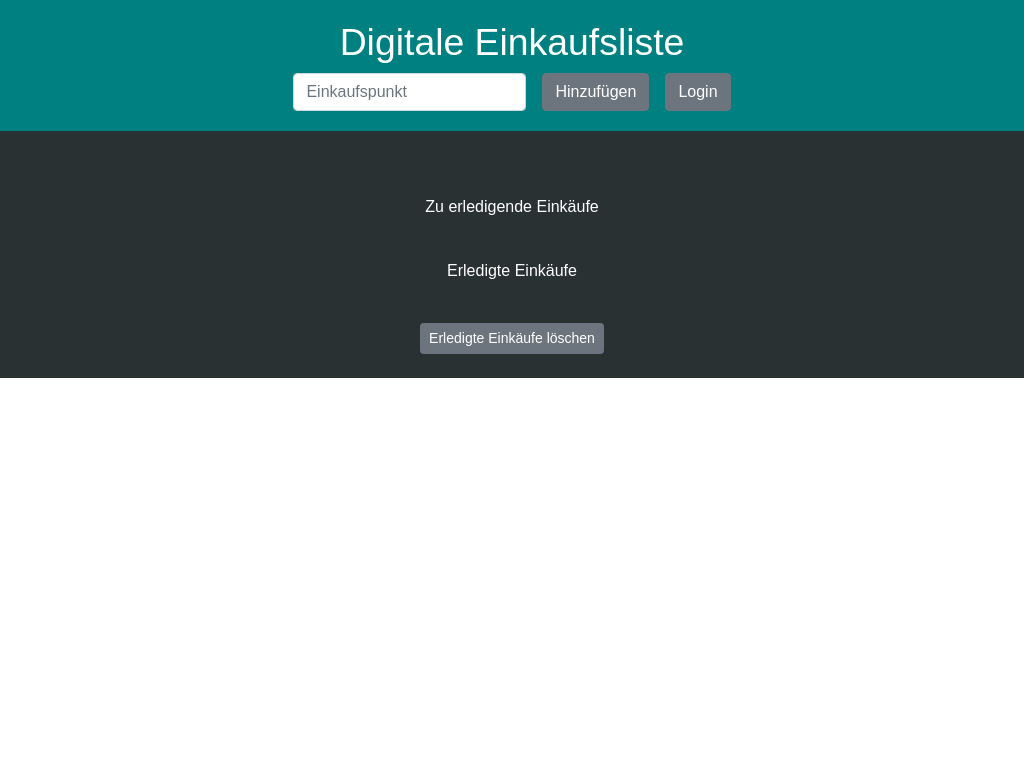
Test: deleate › Test Prozess: eingabe, erledigen, löschen
In the field: (410, 92) [293, 73, 526, 111], type "apfel"
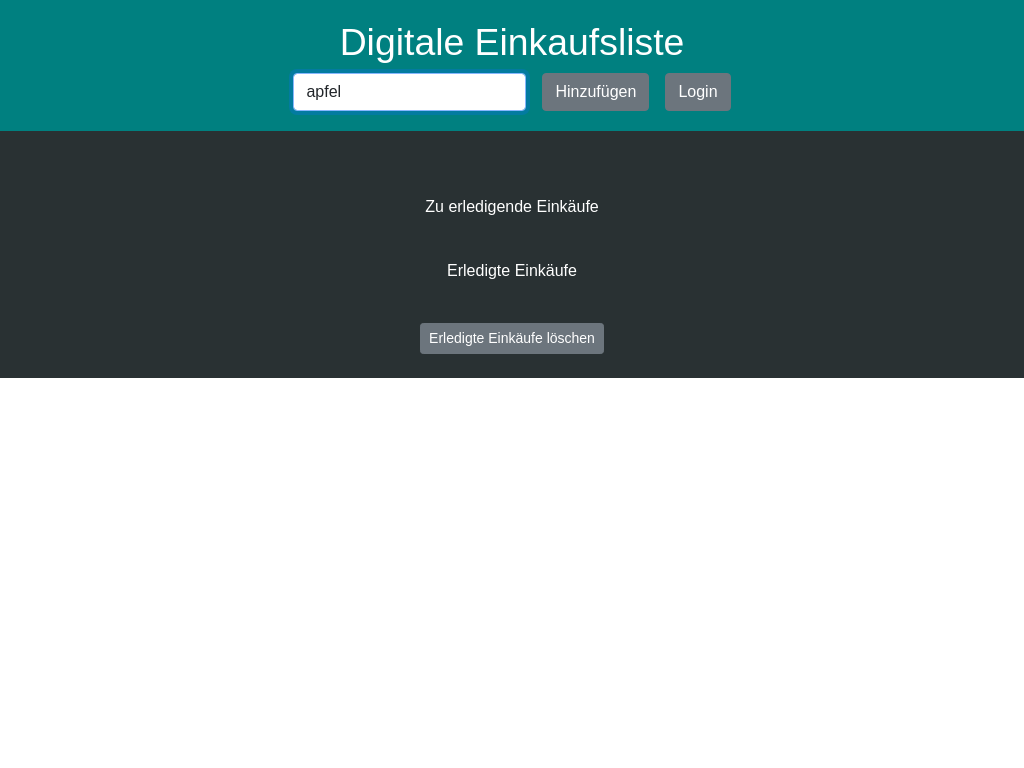
Click the button "Hinzufügen": (596, 92) [542, 73, 649, 111]
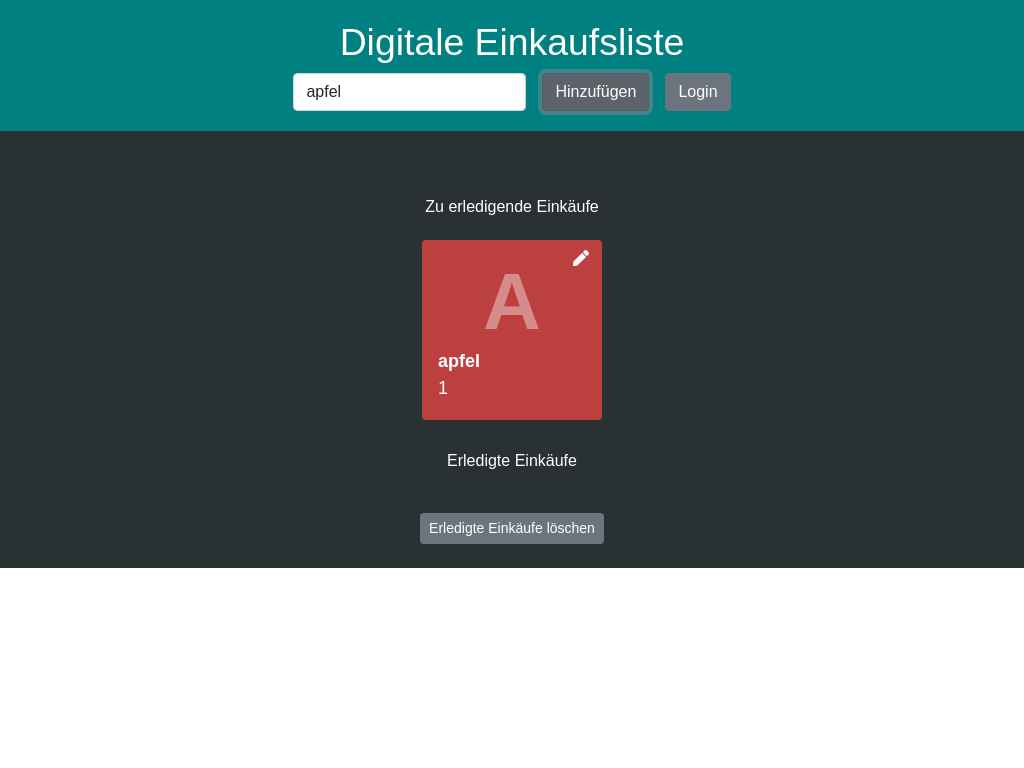
Click the element with class "card-body": (490, 328) [438, 257, 541, 398]
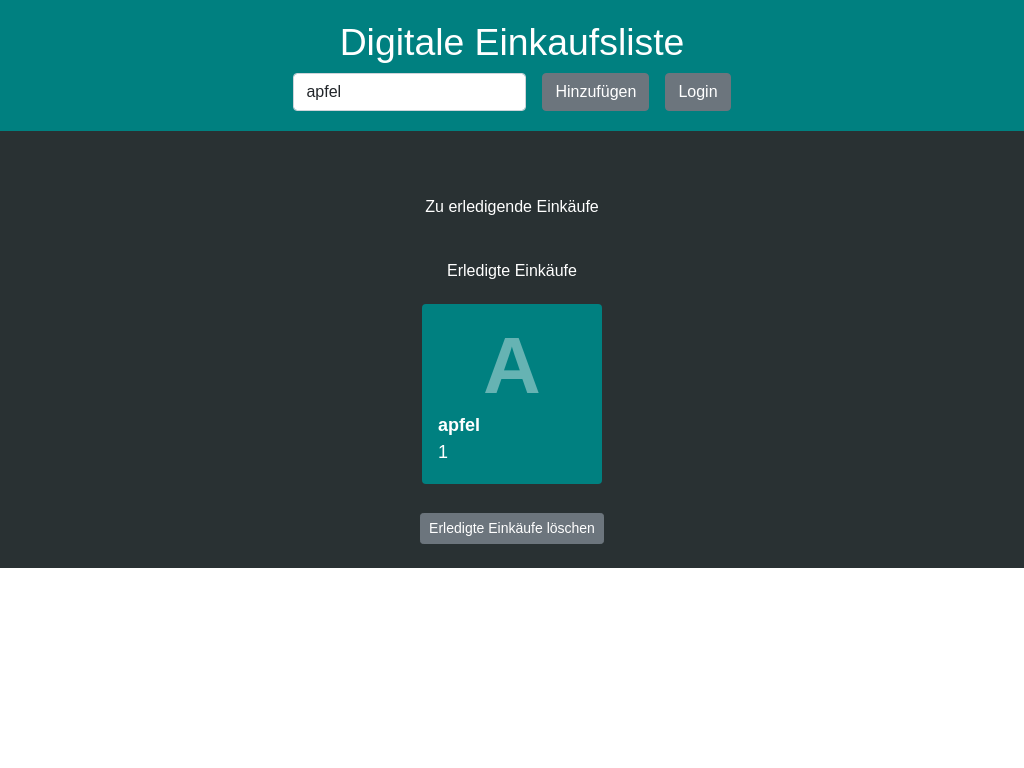
Check: the element showing "a apfel 1" has class "cardColourGreen", box [422, 304, 602, 484]
Click the button "Erledigte Einkäufe löschen": (512, 529) [420, 513, 604, 544]
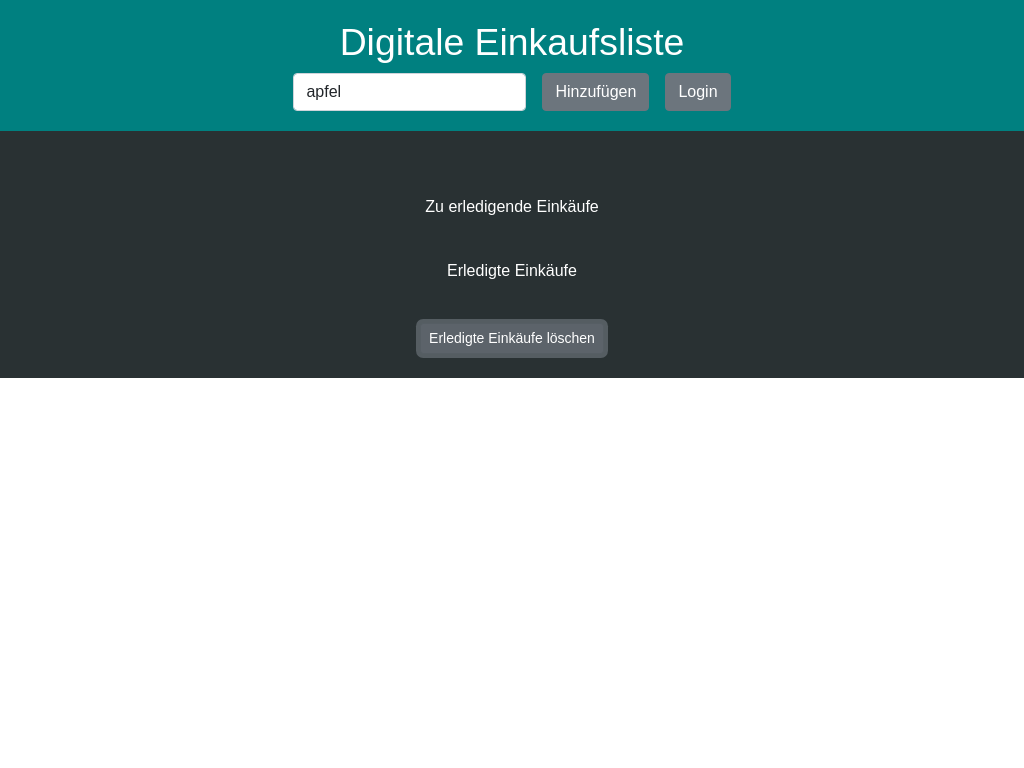
Check: the element with class "card-body" is gone
